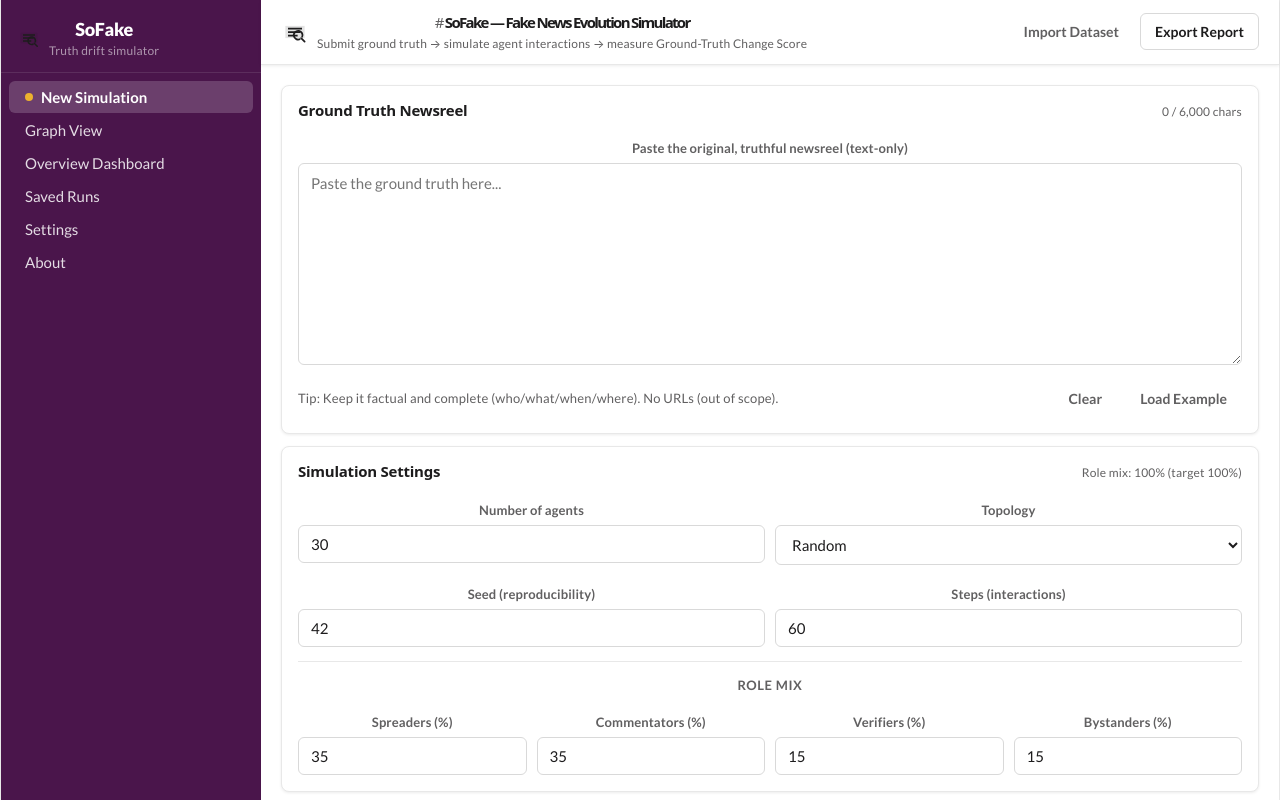
it: SoFake Frontend Unit Tests › should calculate remaining characters correctly
# Input a string of text
Type "Hello SoFake" into the text box with placeholder "Paste the ground truth here..." at [770, 264], box [298,163,1242,365]
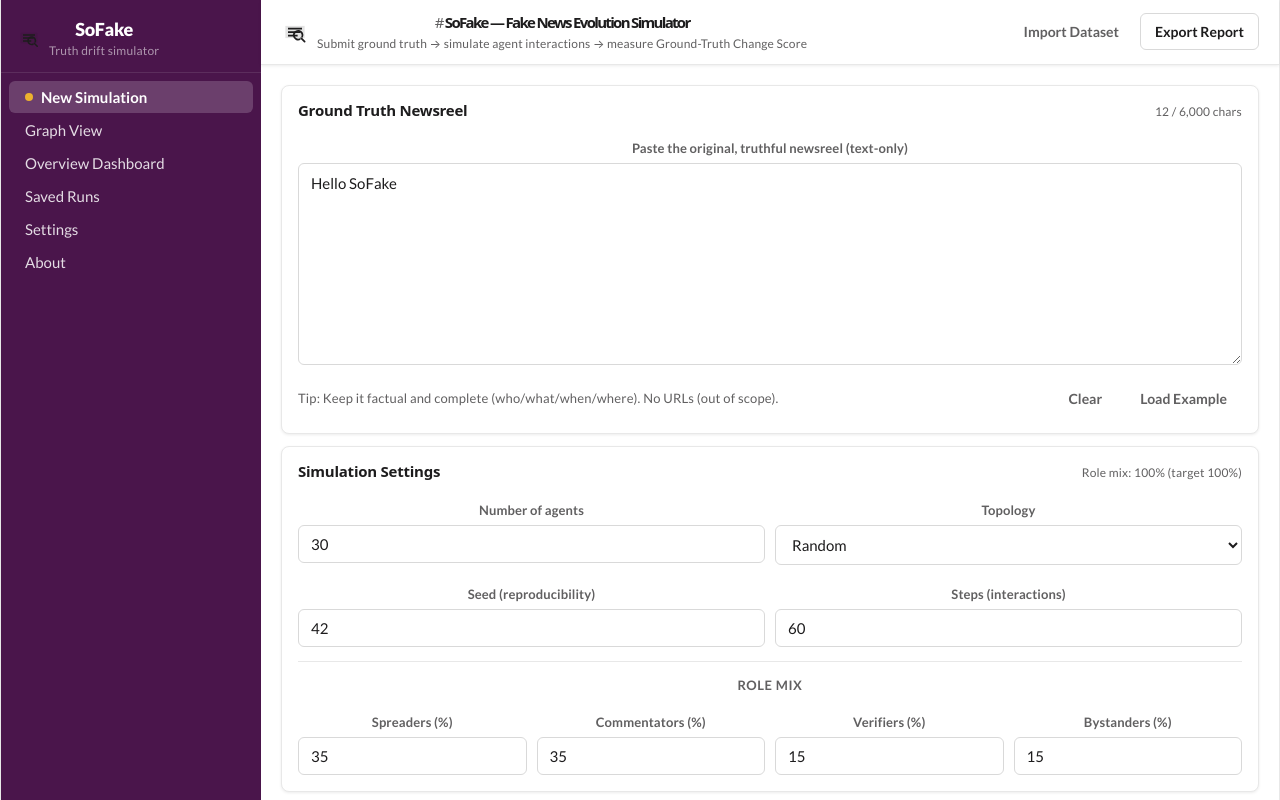
Now the text "12 / 6,000 chars" is shown, box [1155,103,1242,120]
